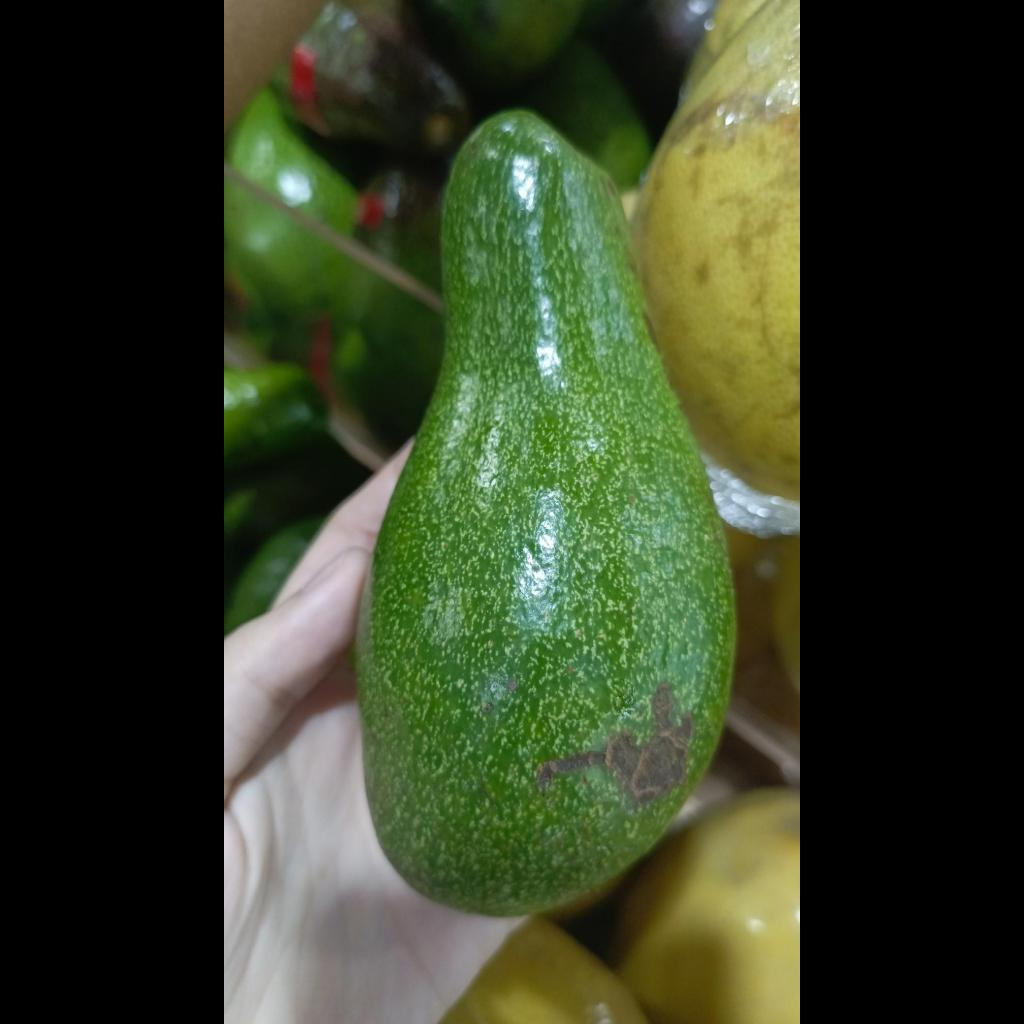healthy: (357, 112, 733, 915)
